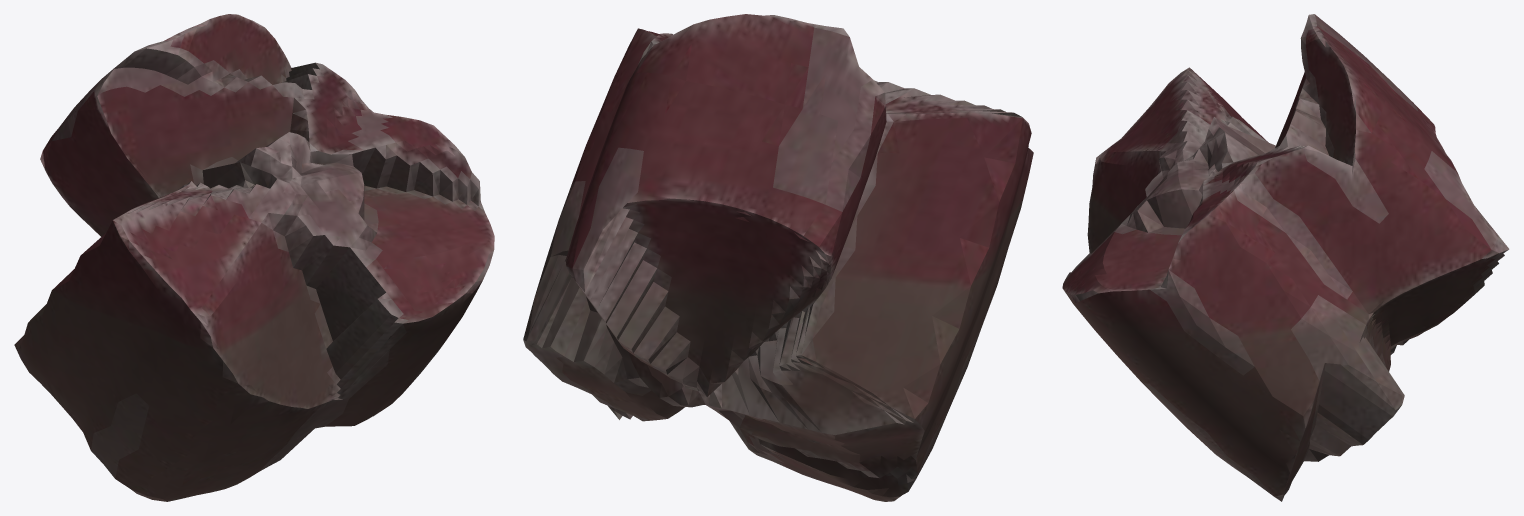
Rendered from big-promethium-asteroid.glb.
3 views of the same model, side by side, from view 1: azimuth 30°, elevation 25°; view 2: azimuth 150°, elevation 25°; view 3: azimuth 270°, elevation 25° (orthographic). The views are drawn at different scales.
Parts seen in each view (by area): view 1: body; view 2: body; view 3: body.
Part boxes in pixels (x1=…): body: x1=14, y1=14, x2=494, y2=501; body: x1=523, y1=14, x2=1033, y2=501; body: x1=1062, y1=14, x2=1509, y2=501.
Bounding box in the file's own units: 5.12 × 5.77 × 5.63.
Materials: 1 (1 with a texture image).
